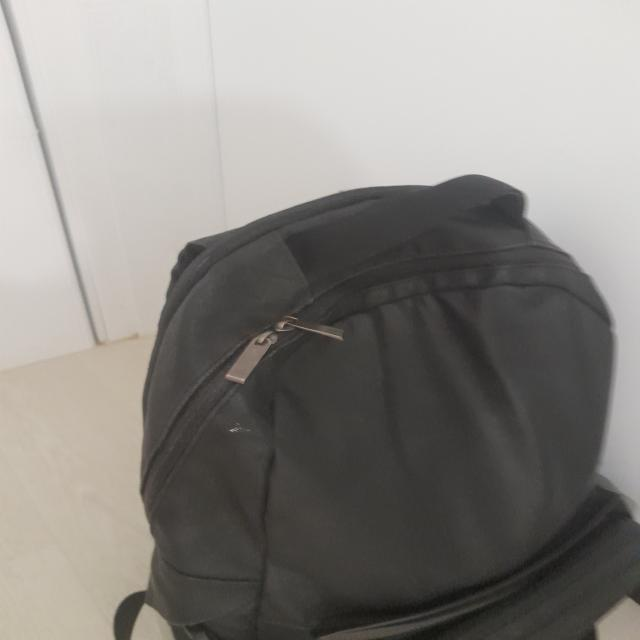backpack: (111, 175, 640, 640)
